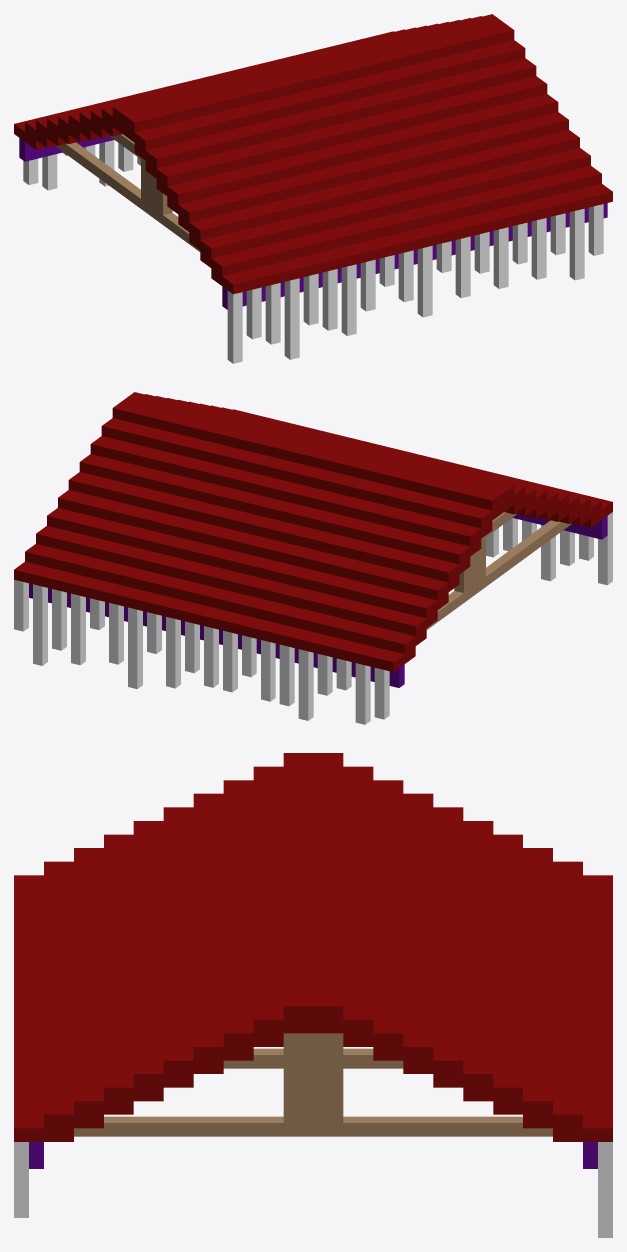
The model's file is dohyo roof.obj.
3 renders of one model, top to bottom at view 1: azimuth 30°, elevation 25°; view 2: azimuth 150°, elevation 25°; view 3: azimuth 270°, elevation 25°, orthographic. The views are drawn at different scales.
Visible parts, largest first — view 1: dohyo roof; view 2: dohyo roof; view 3: dohyo roof.
Boxes of the visible parts, box(x1,y1,x2,y2) form: dohyo roof: box(14, 14, 612, 363); dohyo roof: box(14, 392, 612, 724); dohyo roof: box(14, 753, 612, 1237).
Bounding box in the file's own units: 40 × 18 × 40.
1 material, 1 textured.
